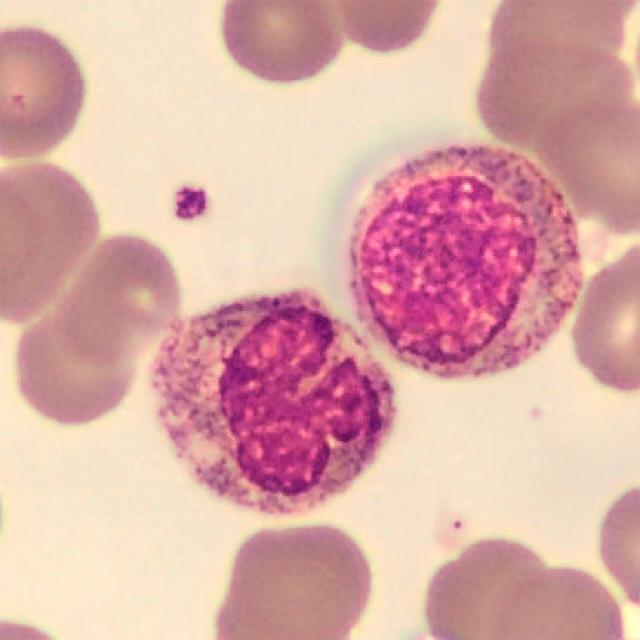Mielocito: (344, 139, 588, 382)
Neutrofilo segmentado: (151, 290, 397, 516)
